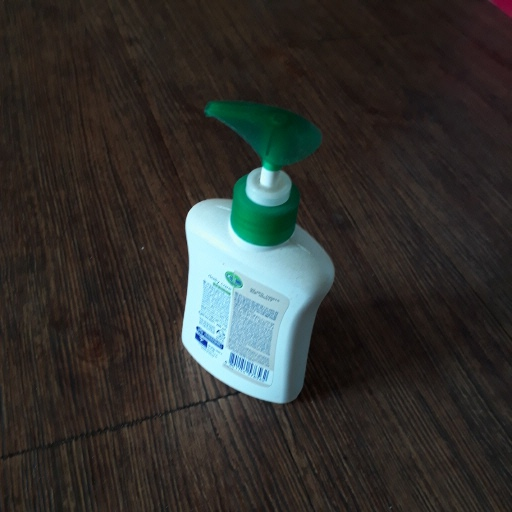Plastic_3: (175, 99, 336, 404)
